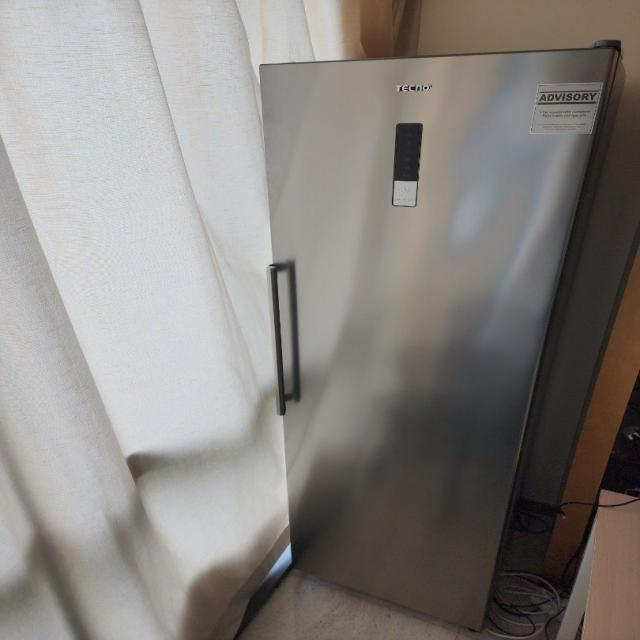refrigerator: (258, 40, 622, 640)
